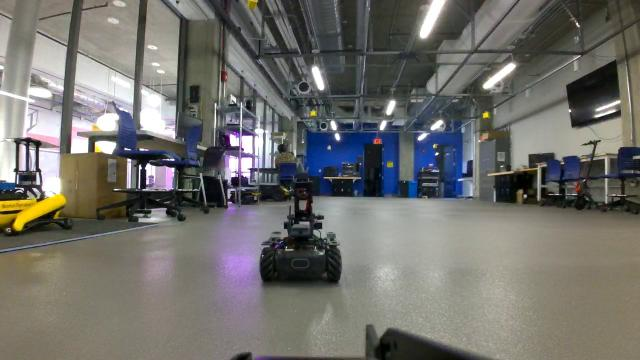robot: (260, 169, 347, 291)
